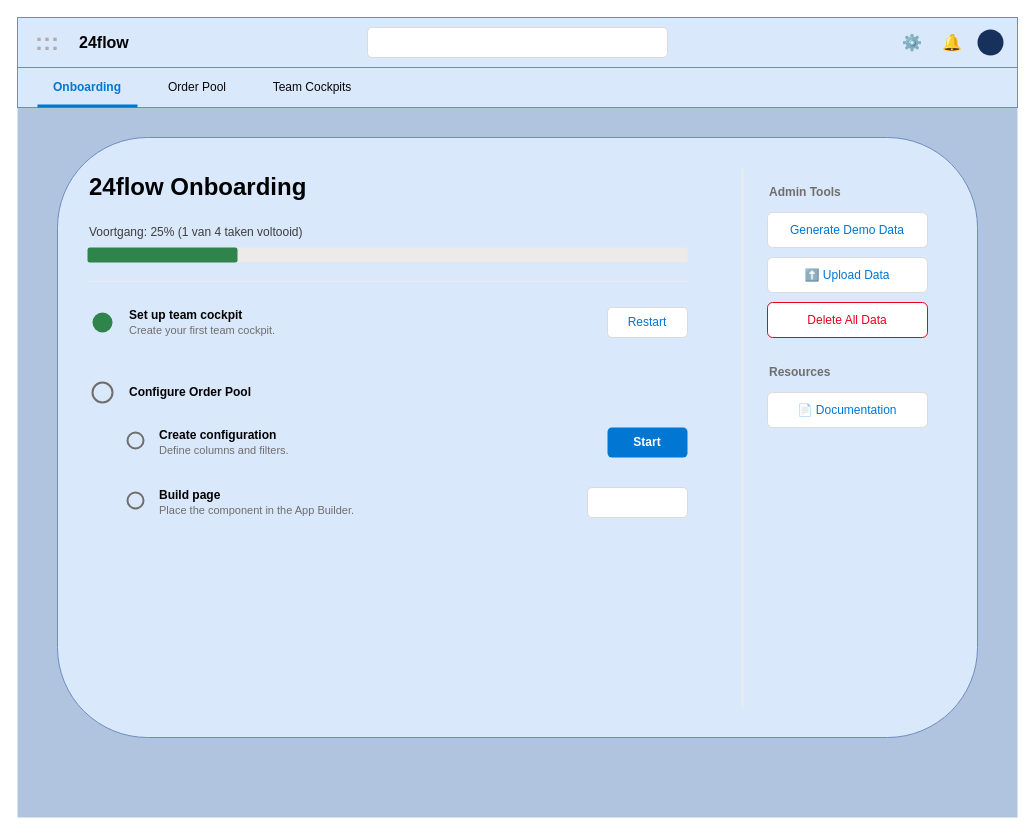
Image size: 1035x835. Some labels were removed from this diagram. The centre of each missing label's shape, as x and y in pixels:
"Mark as Done" goes at (x=637, y=502).
"Search Setup and Personalize..." goes at (x=517, y=42).
